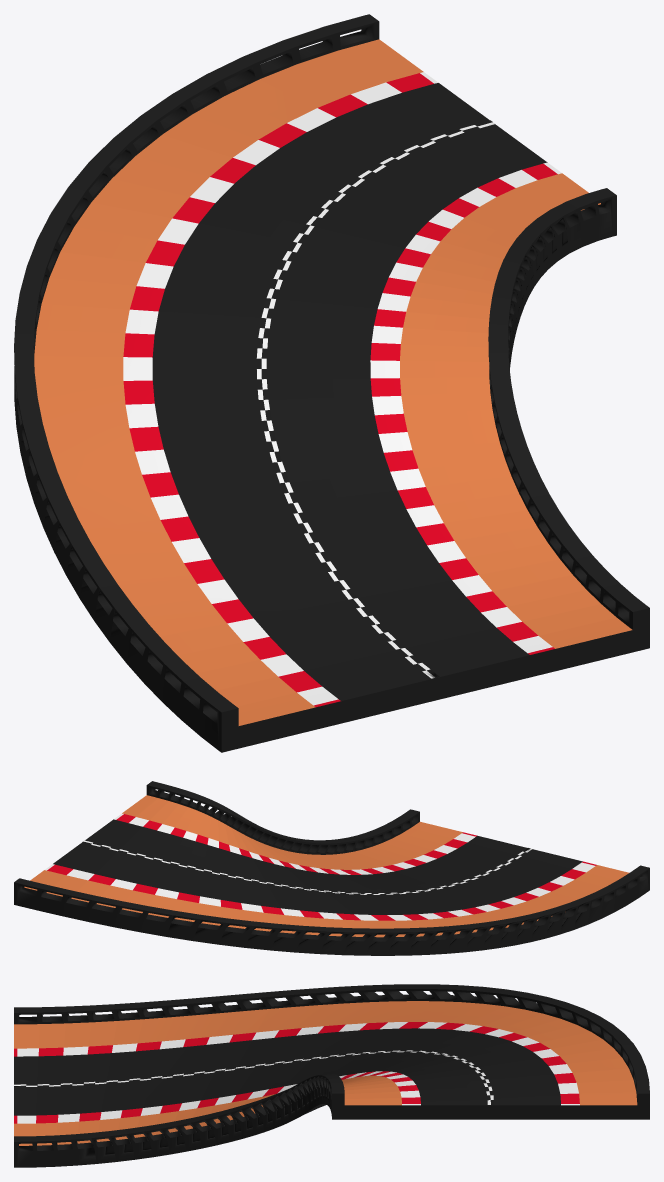
Rendered from ModularTrackRampCurveRight-Deux.fbx.
3 renders of one model, top to bottom at view 1: azimuth 30°, elevation 25°; view 2: azimuth 150°, elevation 25°; view 3: azimuth 270°, elevation 25°, orthographic. The views are drawn at different scales.
Parts seen in each view (by area): view 1: ModularTrackRampCurveRight, LaneDivider; view 2: ModularTrackRampCurveRight, LaneDivider; view 3: ModularTrackRampCurveRight, LaneDivider.
Boxes of the visible parts, box(x1,y1,x2,y2) form: ModularTrackRampCurveRight: box(14, 14, 649, 752); LaneDivider: box(256, 120, 494, 678); ModularTrackRampCurveRight: box(14, 781, 649, 955); LaneDivider: box(82, 840, 531, 894); ModularTrackRampCurveRight: box(14, 984, 649, 1167); LaneDivider: box(14, 1050, 493, 1104).
Size of the model in its own units: 1500 by 490 by 2000.
